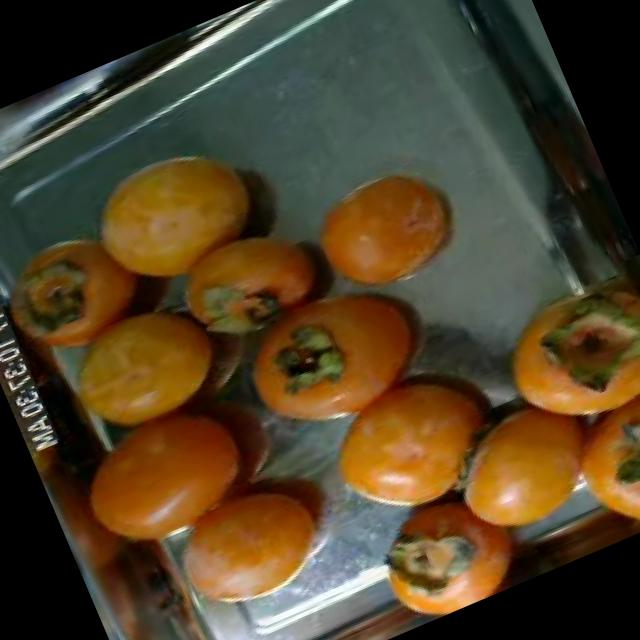Fruit: (284, 323, 552, 555), (129, 430, 387, 640), (23, 264, 267, 476), (416, 362, 636, 568), (63, 113, 287, 314), (463, 246, 640, 465), (284, 138, 488, 324), (144, 192, 352, 368)
